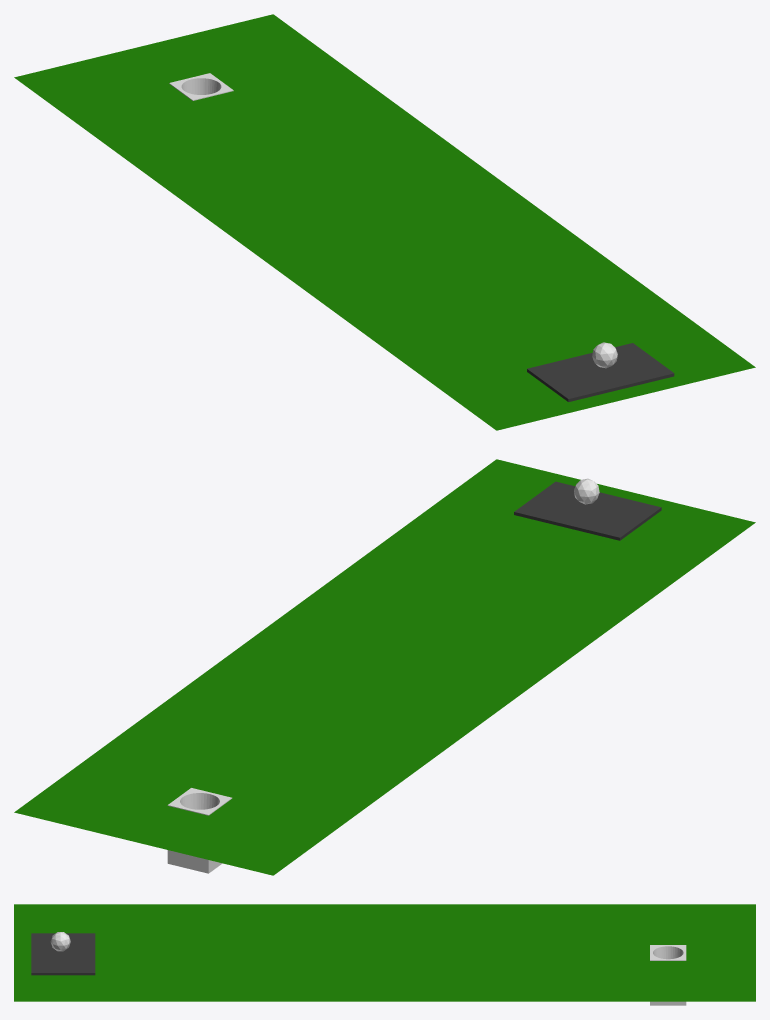
The model's file is boilerplate_level.glb.
The picture shows the model from 3 angles, top to bottom: view 1: azimuth 30°, elevation 25°; view 2: azimuth 150°, elevation 25°; view 3: azimuth 270°, elevation 25°; orthographic projection. The views are drawn at different scales.
Visible parts, largest first — view 1: Plane, Start, Cup; view 2: Plane, Start, Cup; view 3: Plane, Start, Cup, Ball.
Part boxes in pixels (x1,y1,x2,y2): Plane: (14, 14, 755, 430); Start: (527, 343, 674, 401); Cup: (169, 73, 233, 100); Plane: (14, 459, 755, 875); Start: (514, 481, 661, 540); Cup: (167, 788, 232, 873); Plane: (14, 904, 755, 1001); Start: (31, 933, 95, 975); Cup: (650, 945, 686, 1005); Ball: (50, 932, 70, 951).
Bounding box in the file's own units: 19.3 × 6.34 × 62.2.
